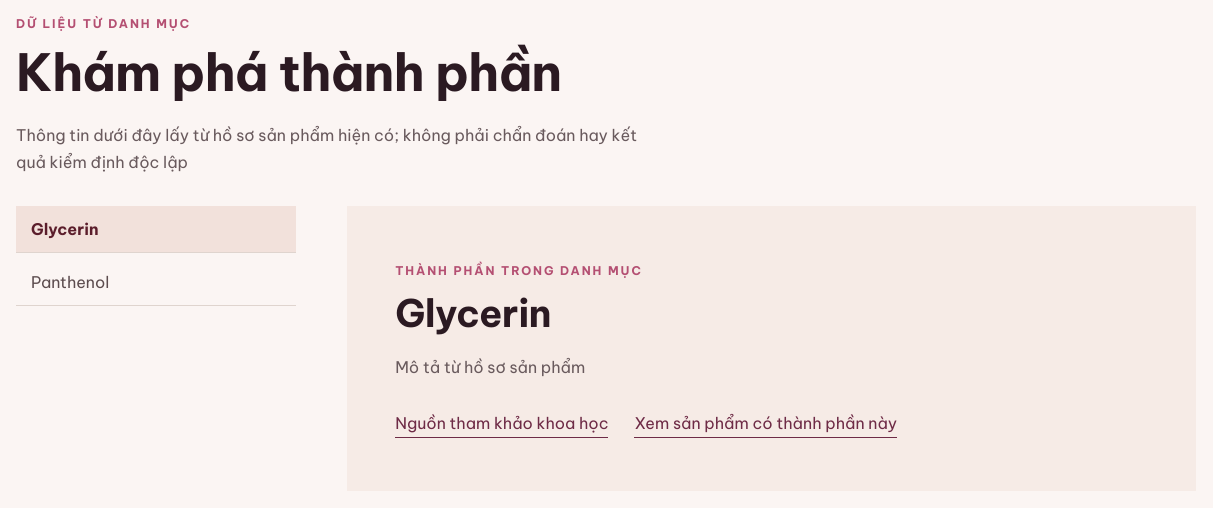
Test case: home product interactions › switches the ingredient panel using only API fields
Click the button "Panthenol" at (70, 282), box [16,259,296,306]
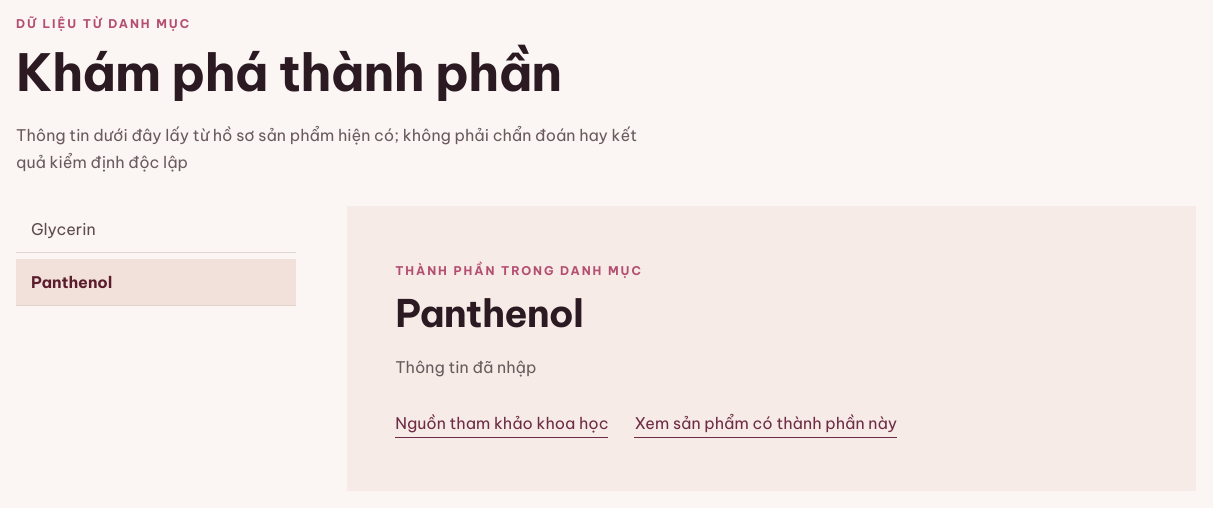
expect the text "Thông tin đã nhập" is shown: met, box [395,357,536,377]
